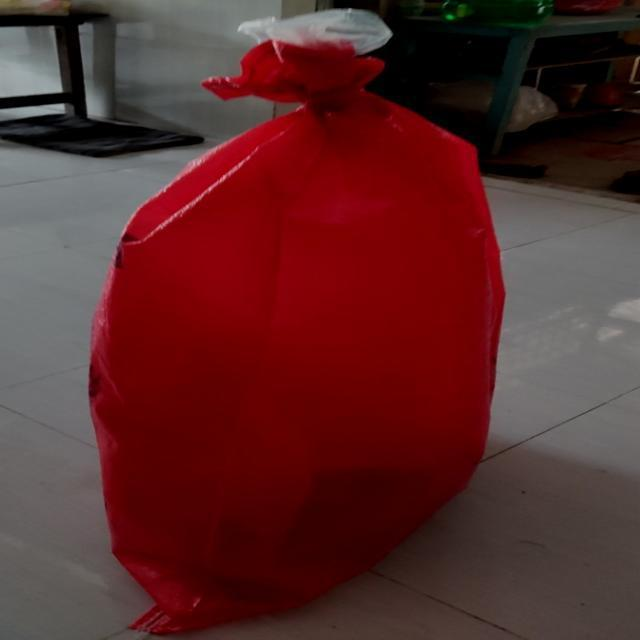gunny_bag: (90, 28, 506, 635)
